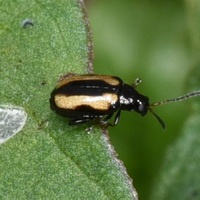insect: (50, 73, 199, 128)
